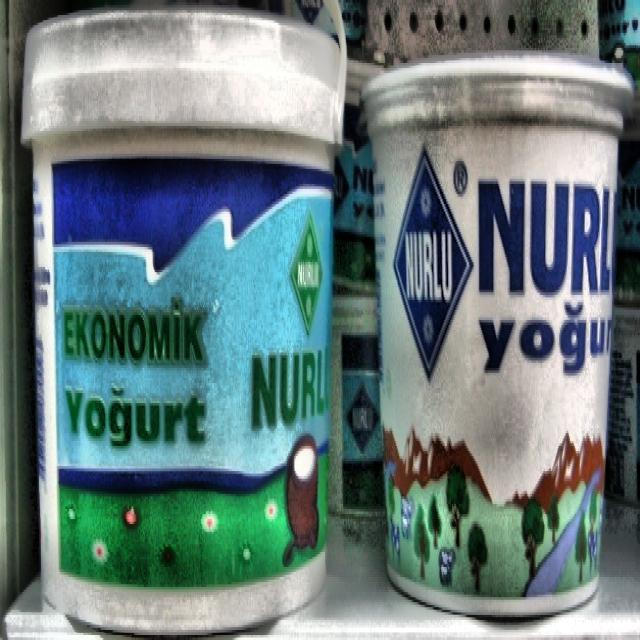plastic: (21, 0, 346, 631), (365, 59, 632, 616)
